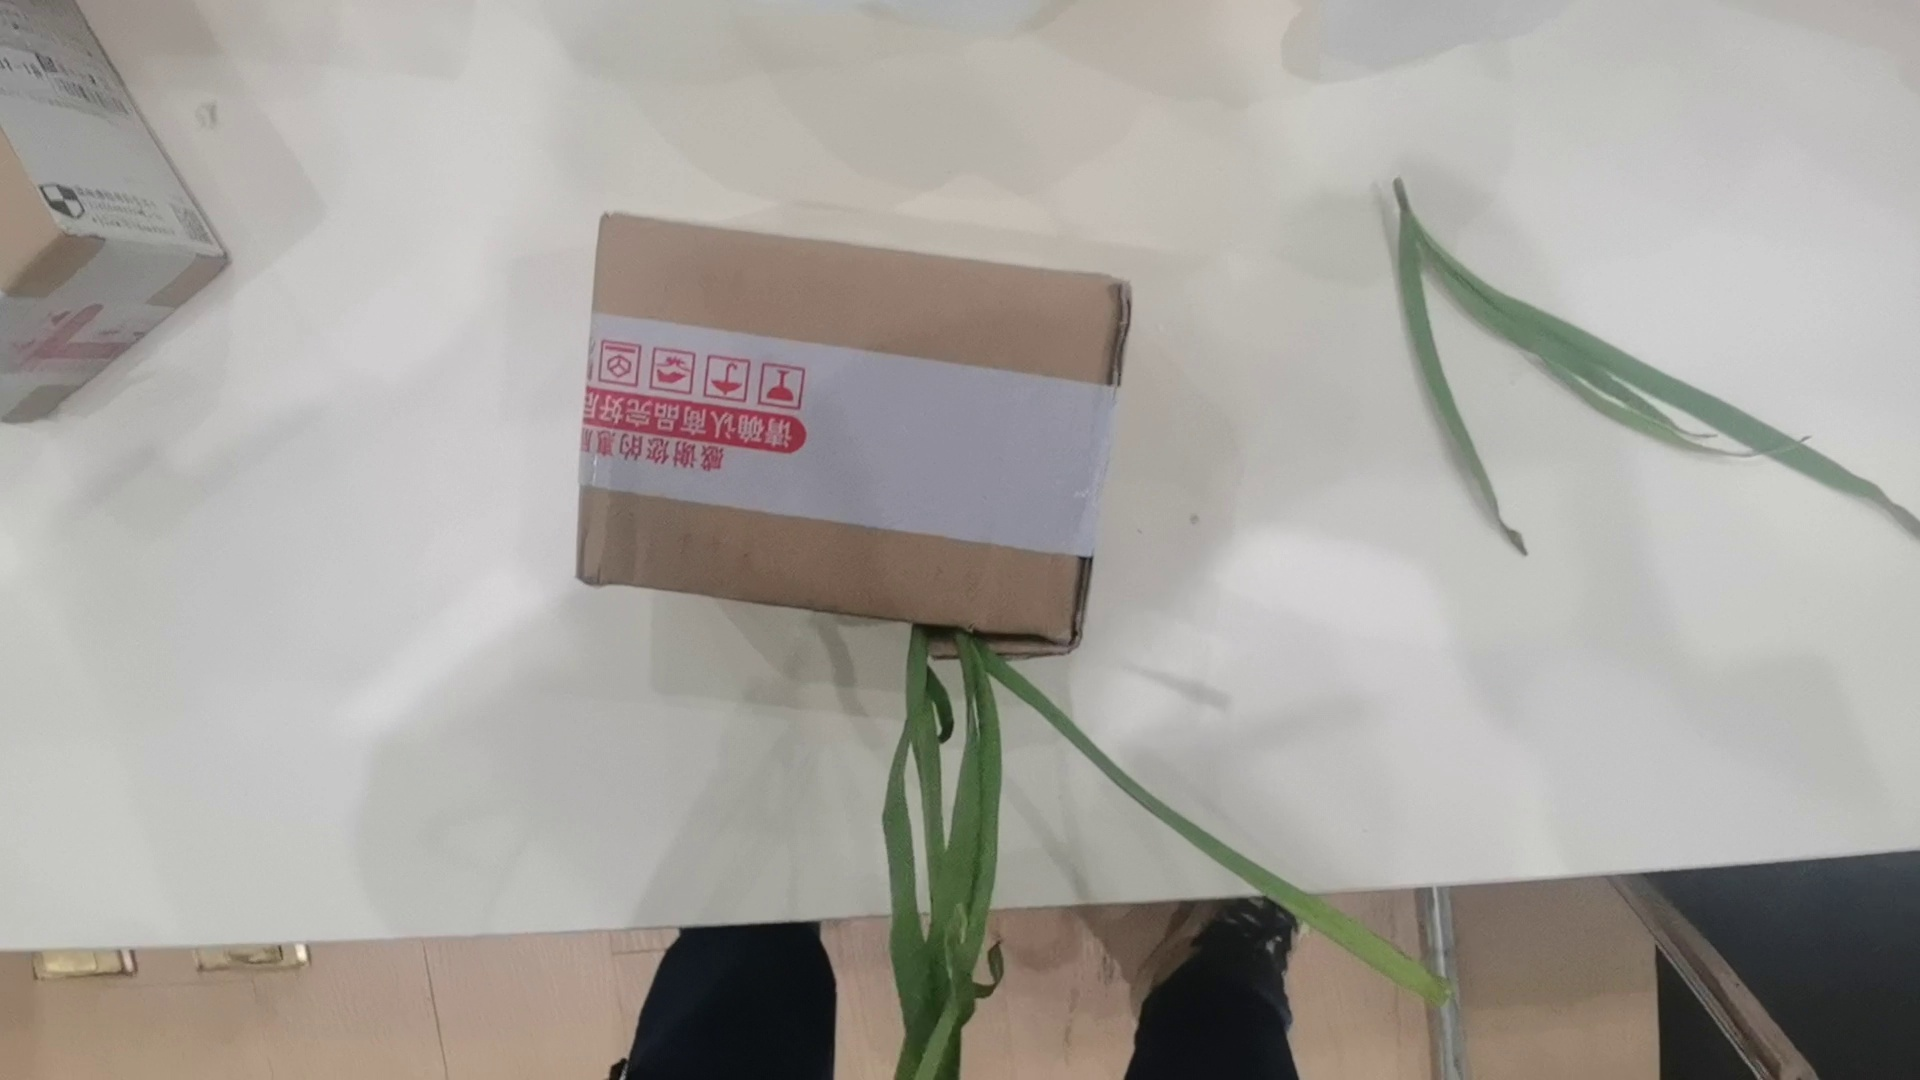chives: (787, 616, 1495, 1080), (1383, 161, 1920, 562)
